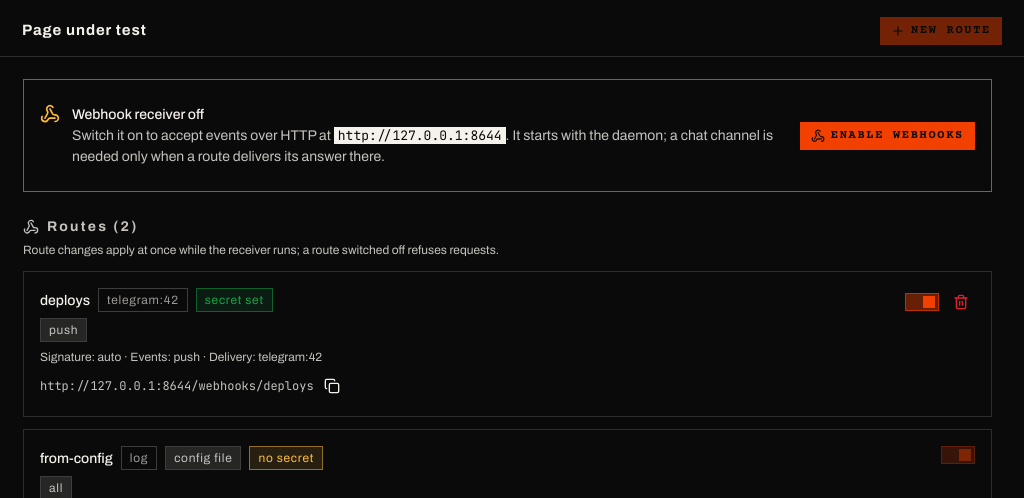
Test: webhooks page › keeps New route off while the receiver is off, and offers a restart after enabling
(page scrolled)
Check: the list item with test id "webhook-deploys" is shown, box [23,271,992,417]
Check: the button "New route" is disabled, box [880,16,1002,44]
Click the button "Enable webhooks" at (887, 136), box [800,122,975,150]
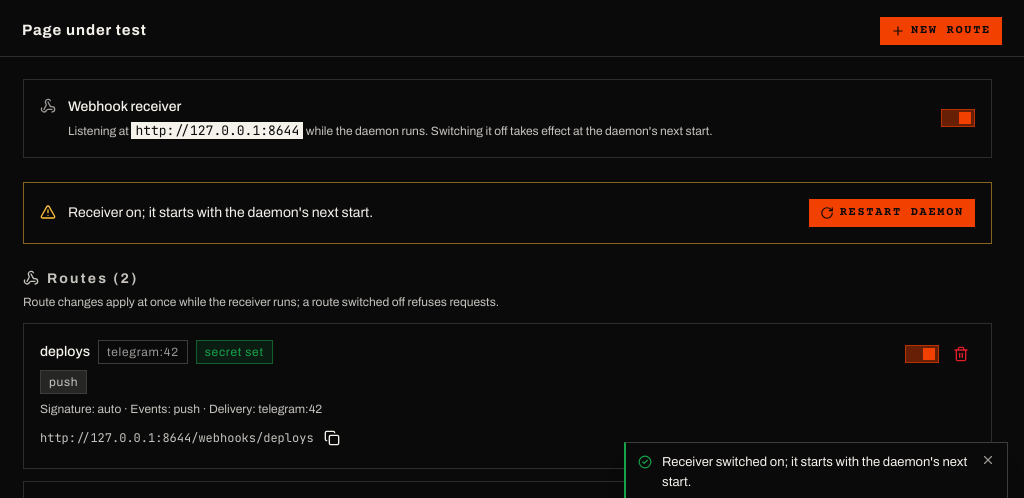
Check: the button "Restart daemon" is shown, box [809,198,975,226]
Check: the button "New route" is enabled, box [880,16,1002,44]
Check: the switch named "Webhook receiver on" is shown, box [941,109,975,127]
